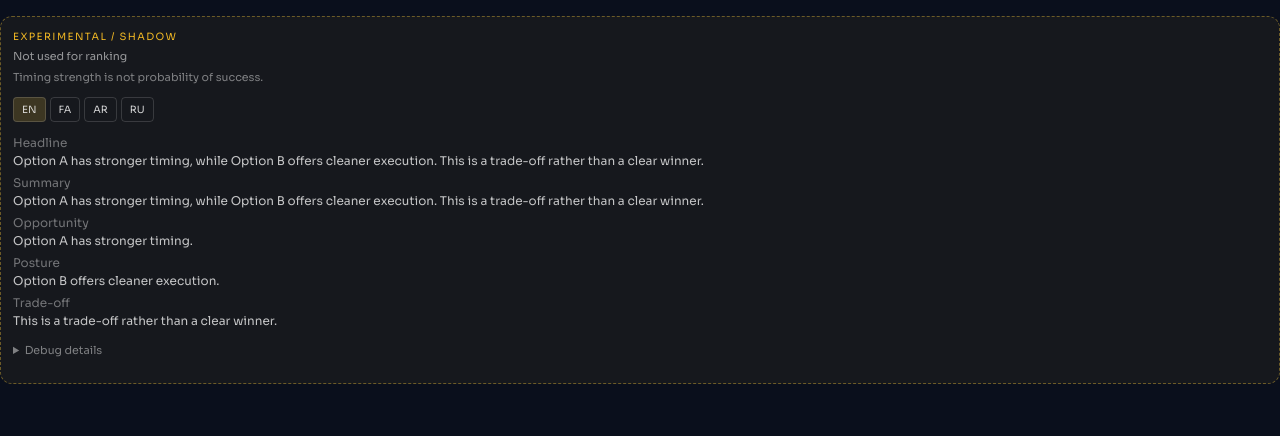
Phase 3F2 semantic preview › G/H: EN/FA/AR/RU render and FA/AR are RTL
This screenshot has width=1280, height=436.
Click the button with test id "semantic-locale-fa".
click(65, 110)  # box [50,97,80,122]
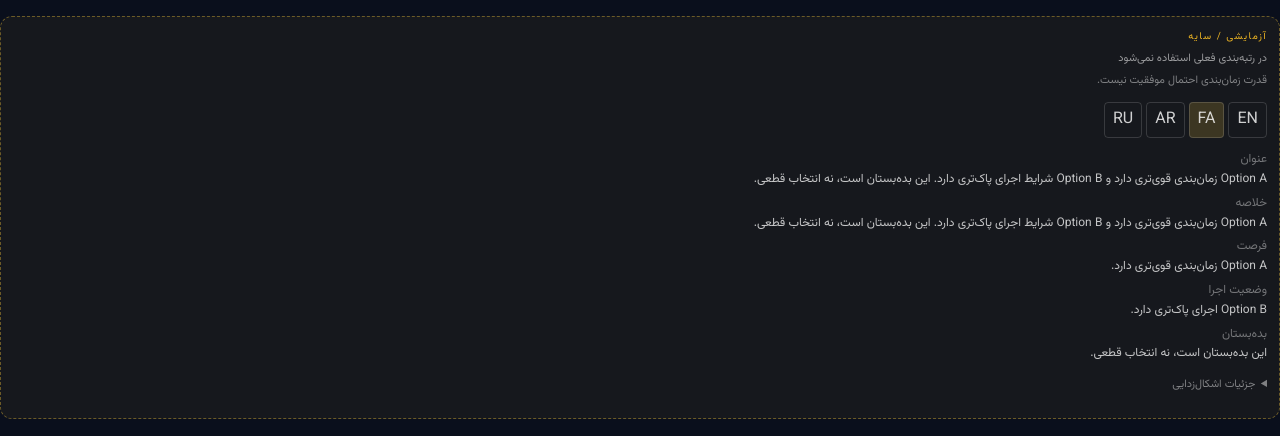
Check: the text with test id "semantic-debug-headline" shows "بده‌بستان", box [754,170,1267,188]
Click the button with test id "semantic-locale-ar".
click(1165, 120)  # box [1146,102,1184,138]
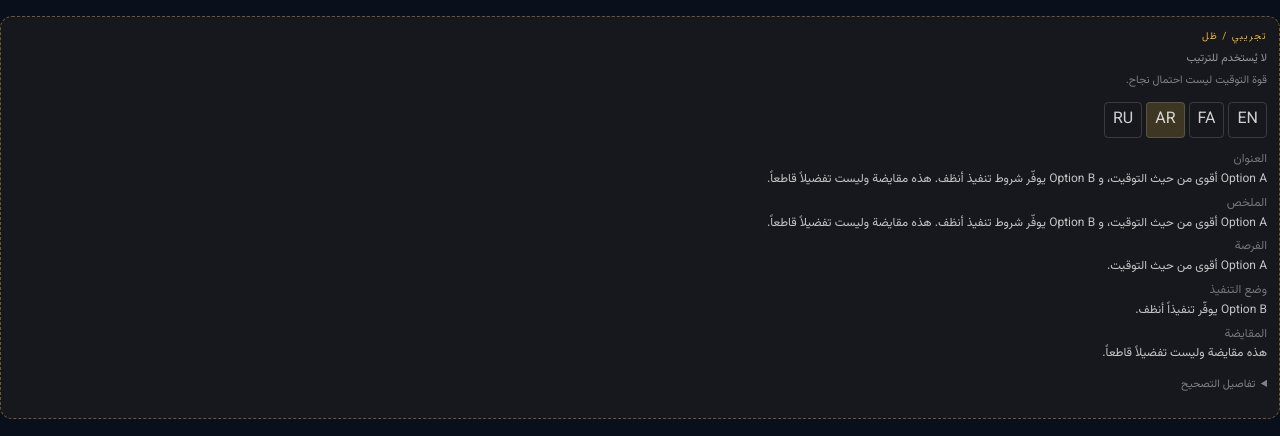
Check: the text with test id "semantic-debug-headline" shows "مقايضة", box [767,170,1267,188]
Click the button with test id "semantic-locale-ru".
click(1123, 120)  # box [1104,102,1142,138]
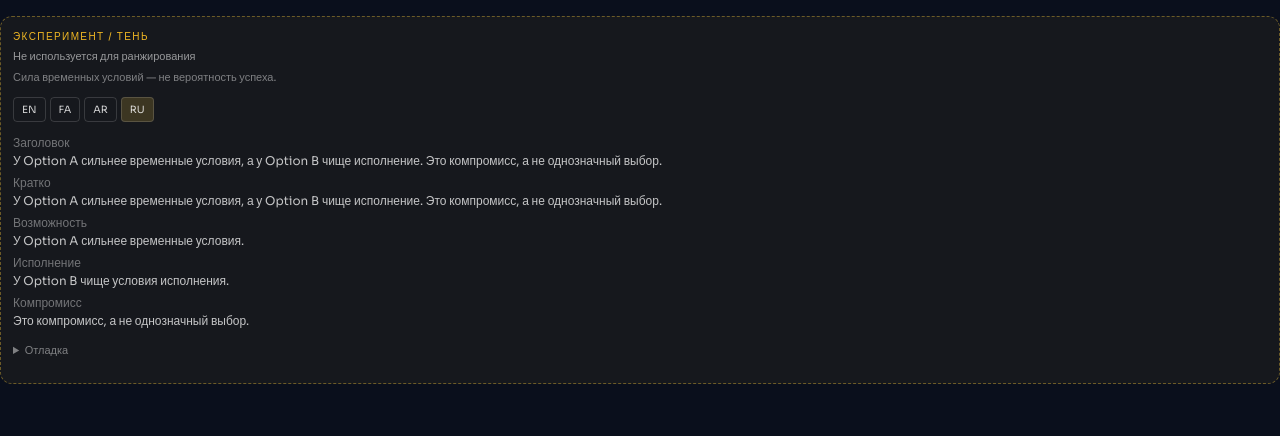
Check: the text with test id "semantic-debug-headline" shows "компромисс", box [13,153,662,168]
